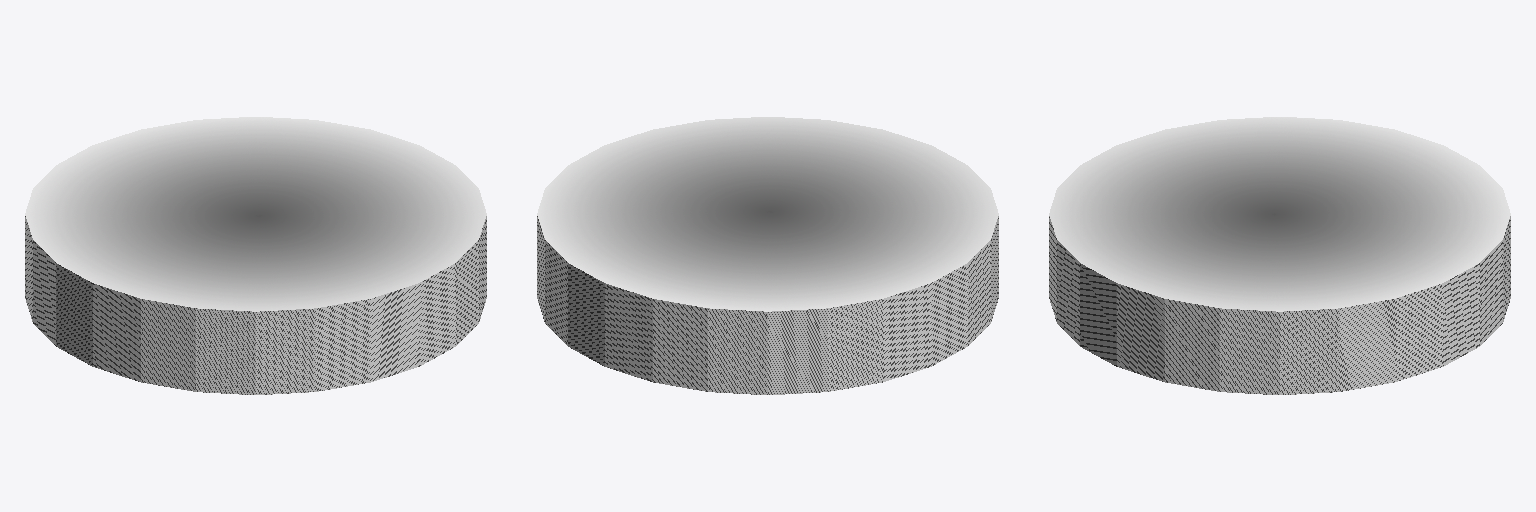
3 renders of one model, left to right at view 1: azimuth 30°, elevation 25°; view 2: azimuth 150°, elevation 25°; view 3: azimuth 270°, elevation 25°, orthographic.
Parts seen in each view (by area): view 1: YF-2Base; view 2: YF-2Base; view 3: YF-2Base.
Part boxes in pixels (x1,y1,x2,y2): YF-2Base: (25, 117, 486, 394); YF-2Base: (537, 117, 998, 394); YF-2Base: (1049, 117, 1510, 394).
Bounding box in the file's own units: 2.5 × 0.5 × 2.5.
1 materials, 1 textured.